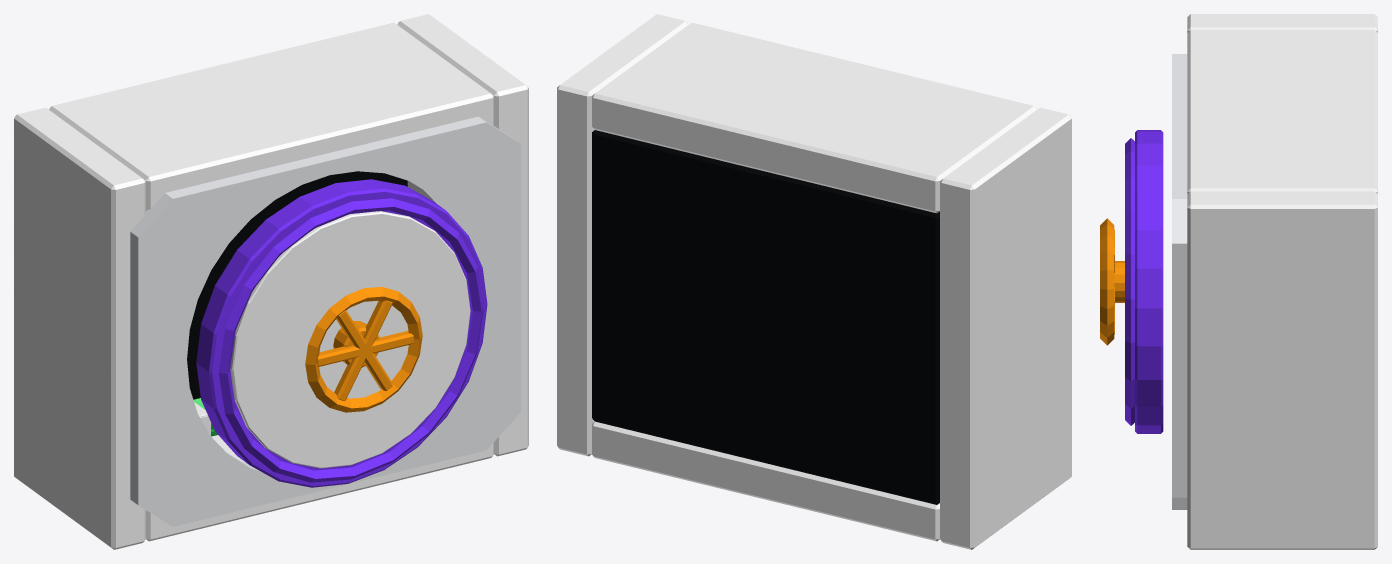
File: vault_neon__v001__model.fbx
The picture shows the model from 3 angles, left to right: view 1: azimuth 30°, elevation 25°; view 2: azimuth 150°, elevation 25°; view 3: azimuth 270°, elevation 25°; orthographic projection. The views are drawn at different scales.
Visible parts, largest first — view 1: vault_neon_Mesh, DoorHinge_Mesh, WheelPivot_Mesh; view 2: vault_neon_Mesh; view 3: vault_neon_Mesh, DoorHinge_Mesh, WheelPivot_Mesh.
Part boxes in pixels (box(x1,y1,x2,y2)): vault_neon_Mesh: box(14, 14, 528, 549); DoorHinge_Mesh: box(196, 179, 487, 487); WheelPivot_Mesh: box(305, 286, 422, 412); vault_neon_Mesh: box(557, 14, 1071, 549); vault_neon_Mesh: box(1172, 14, 1377, 549); DoorHinge_Mesh: box(1125, 130, 1163, 433); WheelPivot_Mesh: box(1100, 218, 1124, 345).
Bounding box in the file's own units: 4.8 × 4 × 2.92.
Materials: 1 (1 with a texture image).
